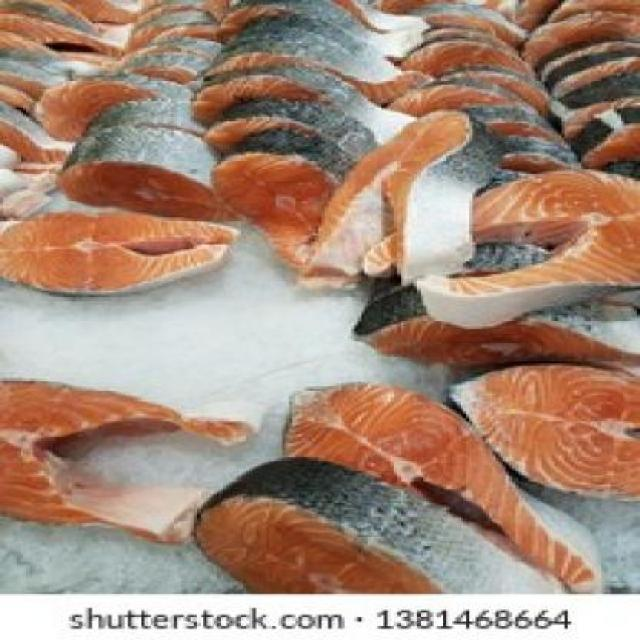salmon: (272, 354, 640, 596), (164, 457, 630, 598), (3, 368, 265, 560), (324, 230, 640, 367), (371, 172, 640, 323), (449, 348, 639, 498), (3, 194, 249, 304), (43, 123, 256, 231), (203, 121, 367, 232)
